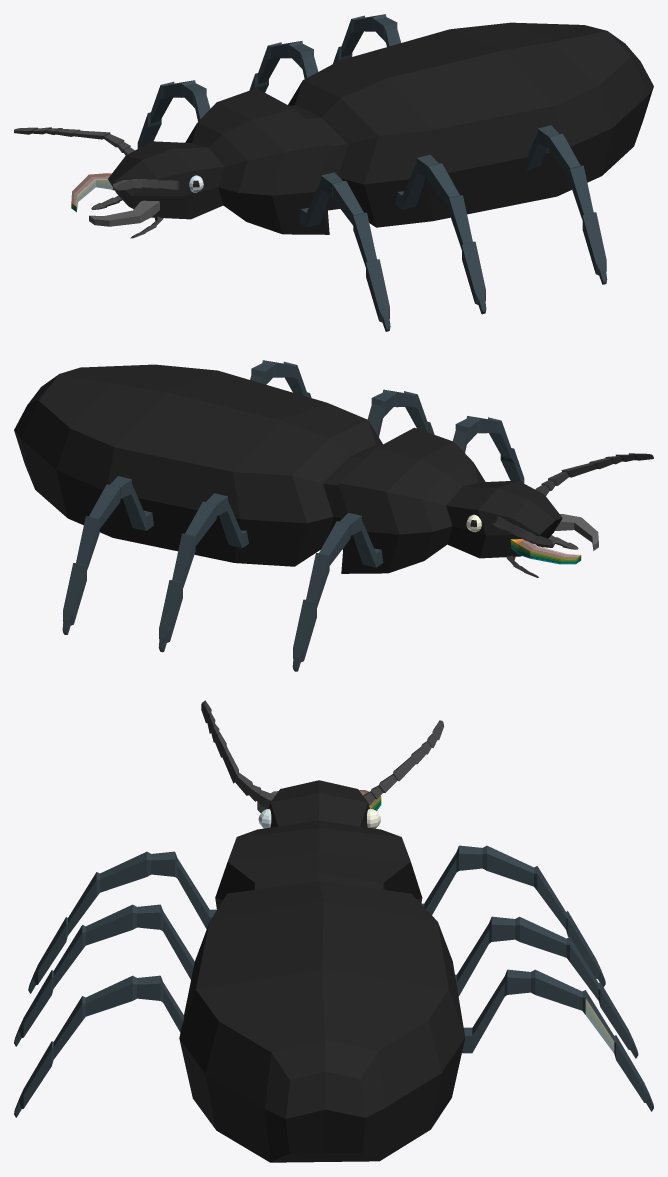
The model's file is JUJELICA.fbx.
3 renders of one model, top to bottom at view 1: azimuth 30°, elevation 25°; view 2: azimuth 150°, elevation 25°; view 3: azimuth 270°, elevation 25°, orthographic. The views are drawn at different scales.
Parts seen in each view (by area): view 1: Cube, Cube.003, Cube.001; view 2: Cube, Cube.003, Cube.001; view 3: Cube, Cube.003, Cube.001.
Part boxes in pixels (x1,y1,x2,y2): Cube: (71,22,653,234); Cube.003: (137,14,607,331); Cube.001: (14,127,179,190); Cube: (14,364,598,573); Cube.003: (62,360,524,671); Cube.001: (492,453,653,547); Cube: (179,780,465,1162); Cube.003: (14,845,653,1117); Cube.001: (201,700,444,808).
Size of the model in its own units: 2185 by 522 by 1744.
